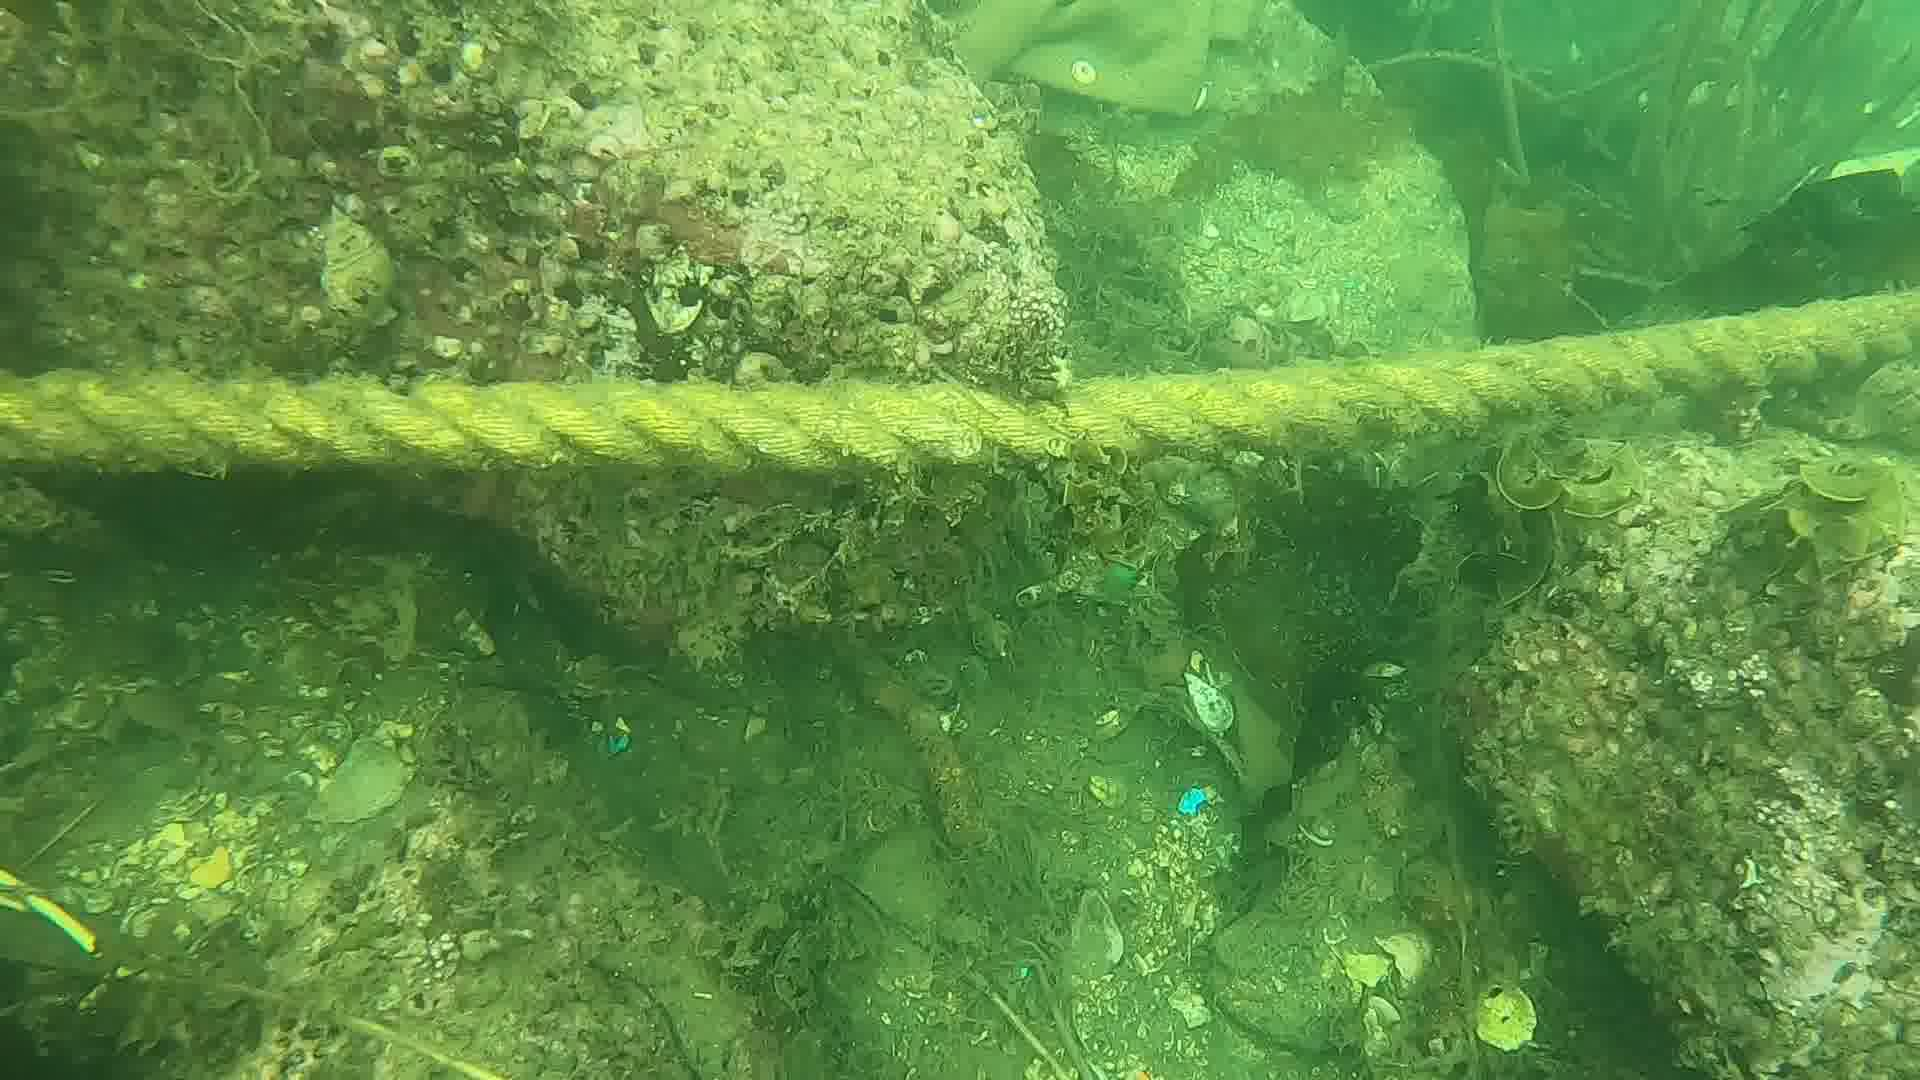rope: (0, 286, 1920, 465)
